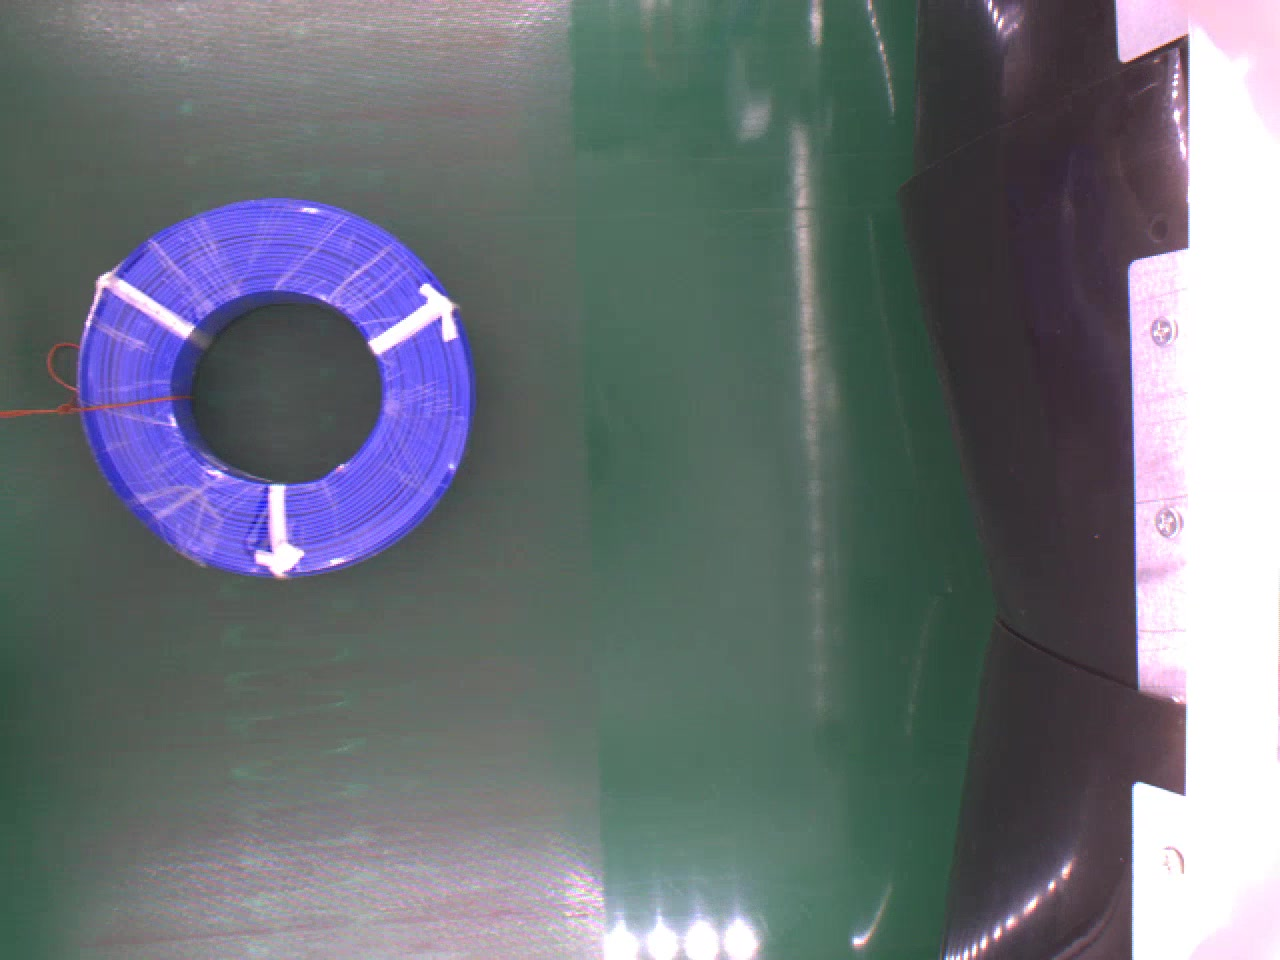blue: (78, 192, 476, 586)
